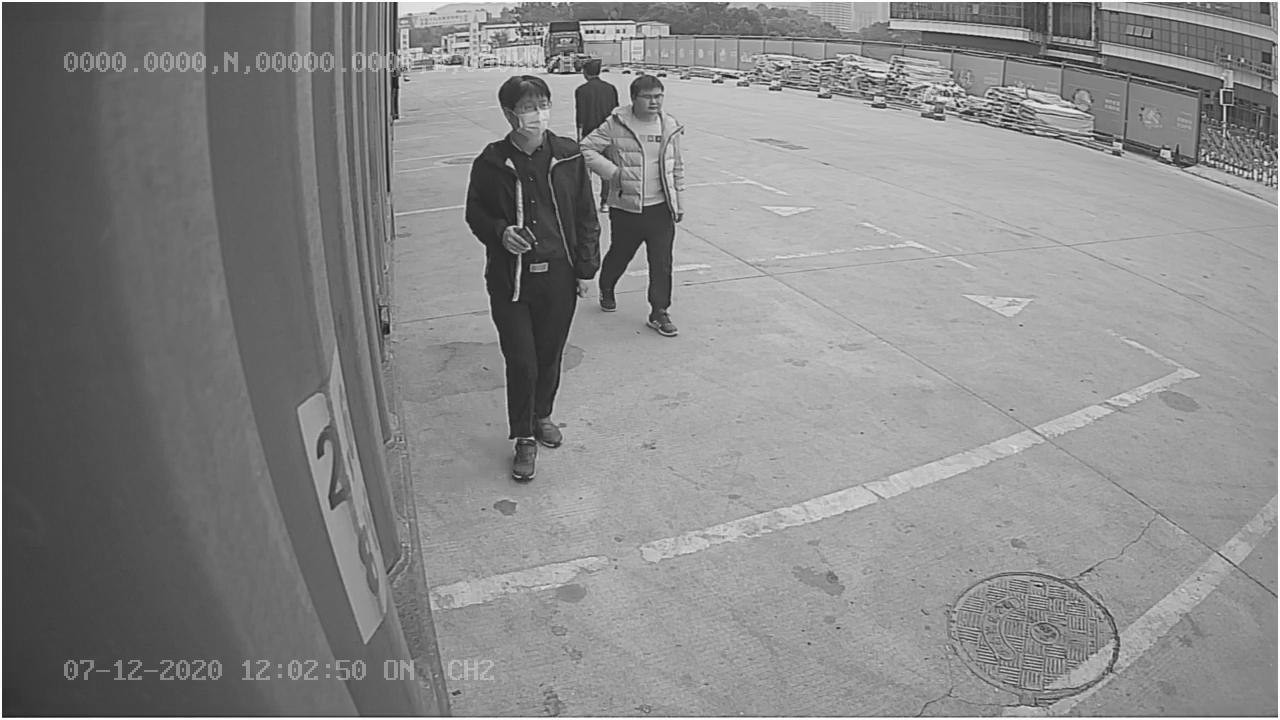person: (470, 66, 602, 480)
